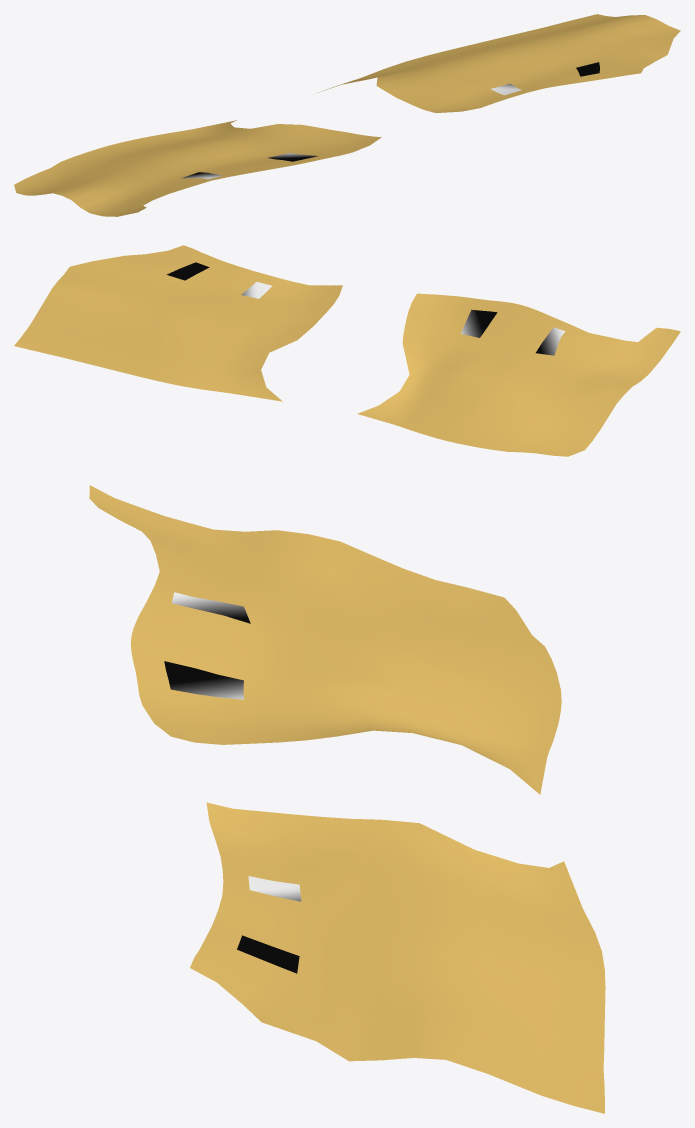
The model's file is sand 1.fbx.
The picture shows the model from 3 angles, top to bottom: view 1: azimuth 30°, elevation 25°; view 2: azimuth 150°, elevation 25°; view 3: azimuth 270°, elevation 25°; orthographic projection. The views are drawn at different scales.
Parts seen in each view (by area): view 1: map.001; view 2: map.001; view 3: map.001.
Boxes of the visible parts, x1,y1,x2,y2 form: map.001: [14, 14, 680, 216]; map.001: [14, 245, 680, 456]; map.001: [89, 485, 605, 1113].
Size of the model in its own units: 18591 by 1685 by 7602.
